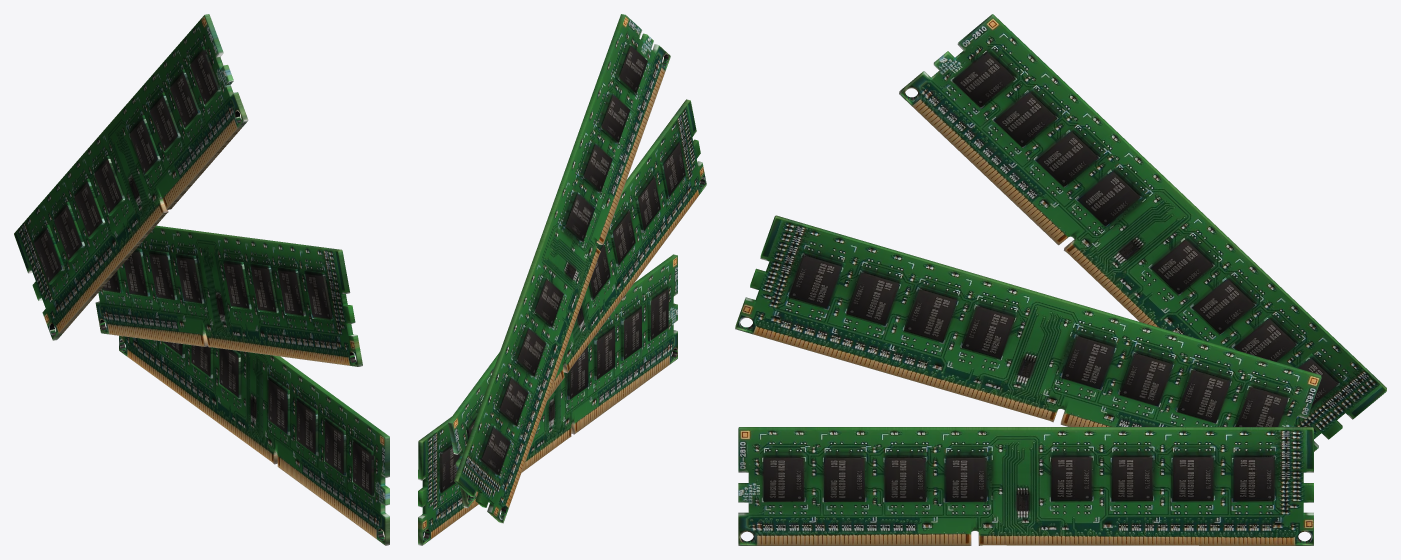
Rendered from ram-generica.glb.
3 views of the same model, side by side, from view 1: azimuth 30°, elevation 25°; view 2: azimuth 150°, elevation 25°; view 3: azimuth 270°, elevation 25° (orthographic). The views are drawn at different scales.
Parts seen in each view (by area): view 1: Cube_Ram Side_0; view 2: Cube_Ram Side_0; view 3: Cube_Ram Side_0.
Boxes of the visible parts, x1,y1,x2,y2 form: Cube_Ram Side_0: (14, 14, 389, 545); Cube_Ram Side_0: (418, 14, 706, 545); Cube_Ram Side_0: (735, 14, 1386, 545).
Size of the model in its own units: 0.8247 by 4.43 by 5.27.
1 material, 1 textured.
